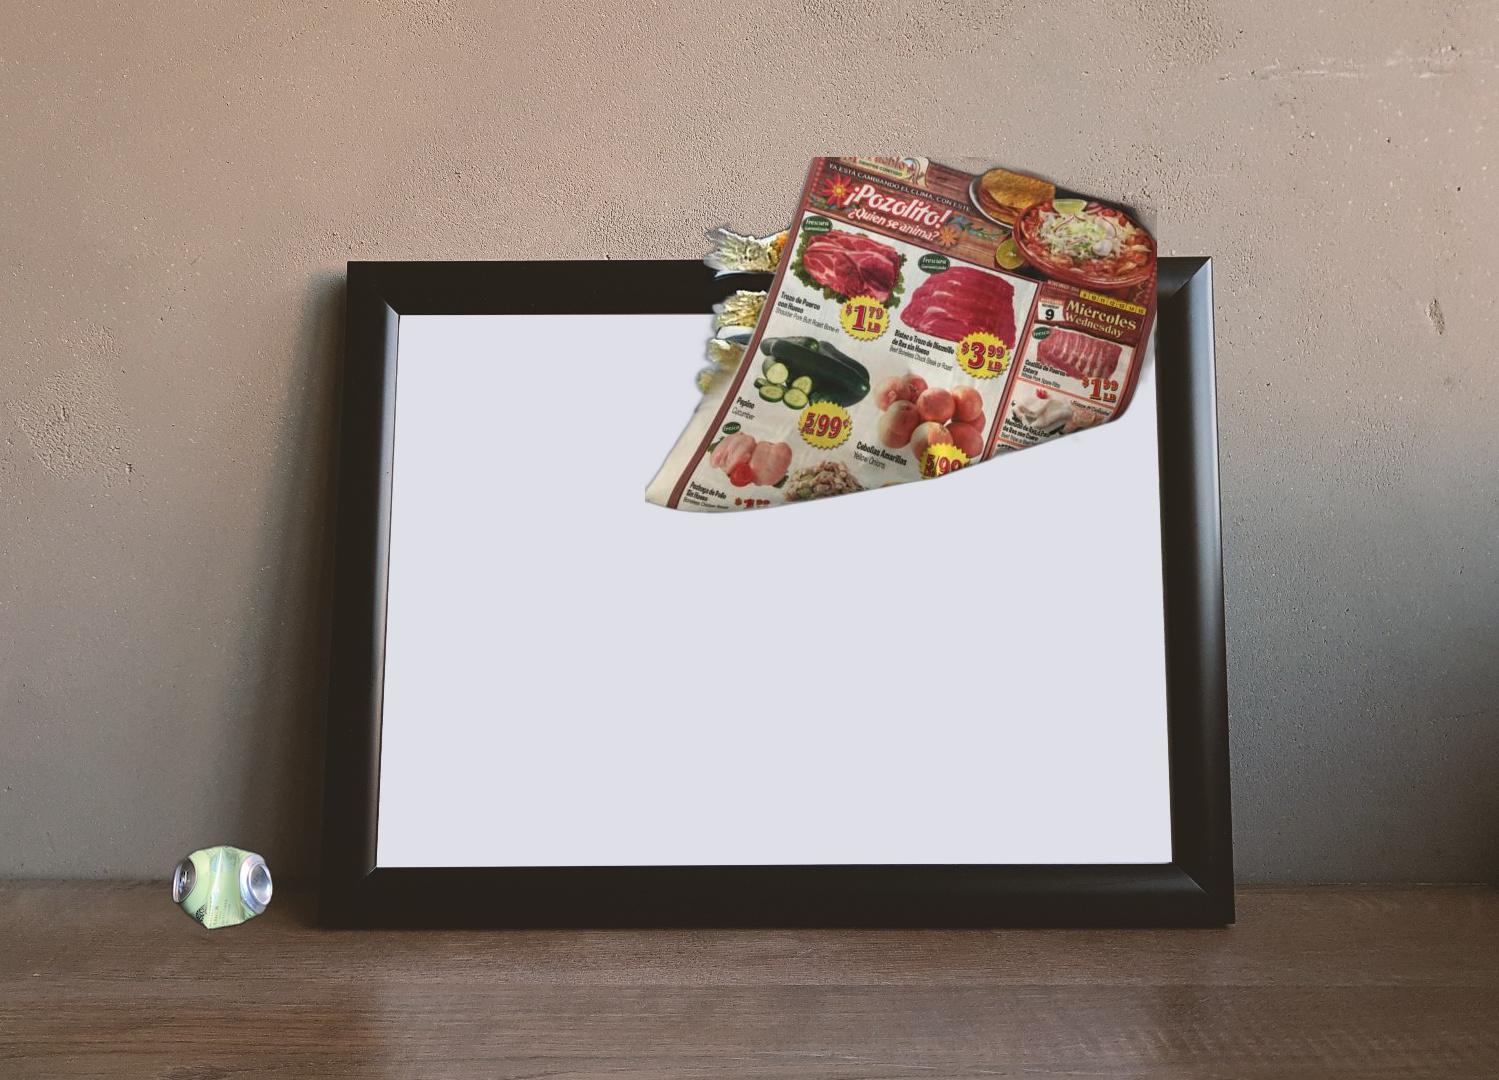biological: (566, 192, 1127, 503)
metal-cans: (166, 839, 471, 1080)
paper: (645, 157, 1157, 516)
